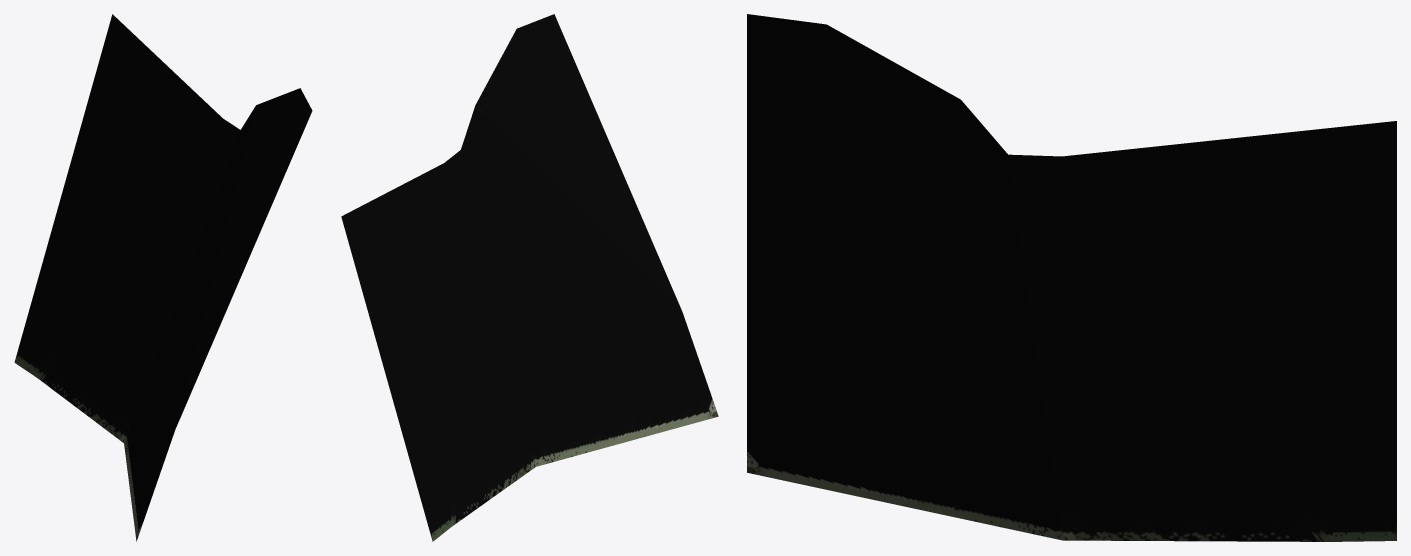
3 views of the same model, side by side, from view 1: azimuth 30°, elevation 25°; view 2: azimuth 150°, elevation 25°; view 3: azimuth 270°, elevation 25° (orthographic). The views are drawn at different scales.
Bounding box in the file's own units: 3.02 × 5.9 × 5.9.
3 materials, 3 textured.
